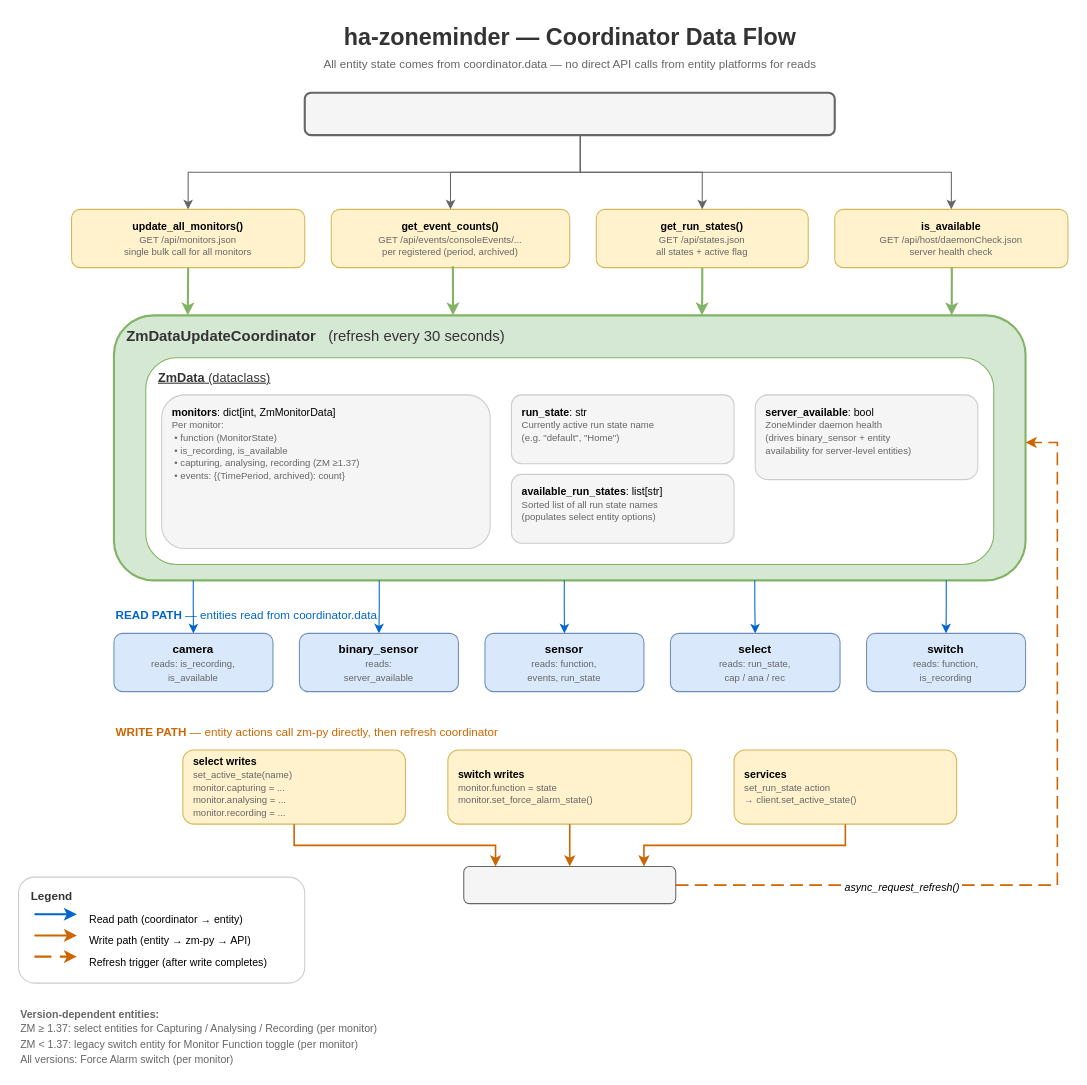
Image size: 1087x1085. Some labels were removed from this diagram. The shapes that lost their labels are listed below. From the top down, each one's centre as x and y in pixels, then its label:
point 569,113: ZoneMinder REST API
point 569,884: zm-py → ZM REST API
